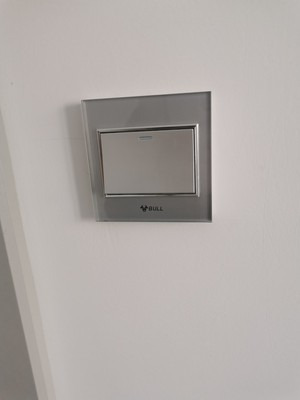switch: (96, 126, 201, 201)
